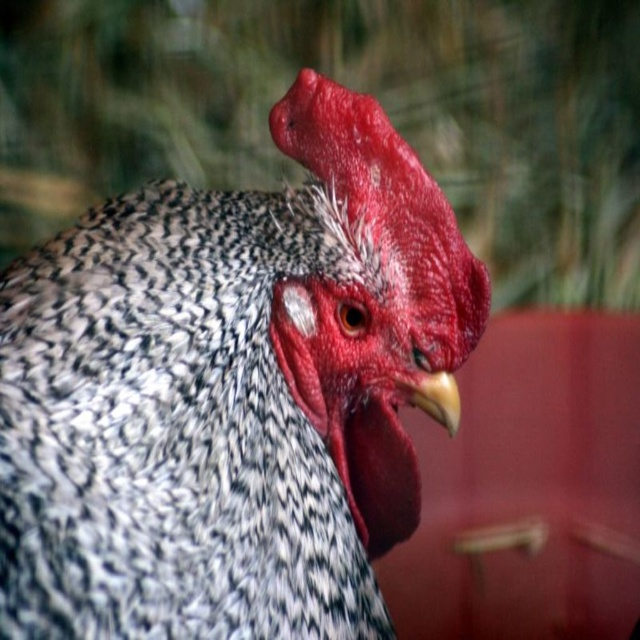Chicken: (0, 67, 488, 639)
